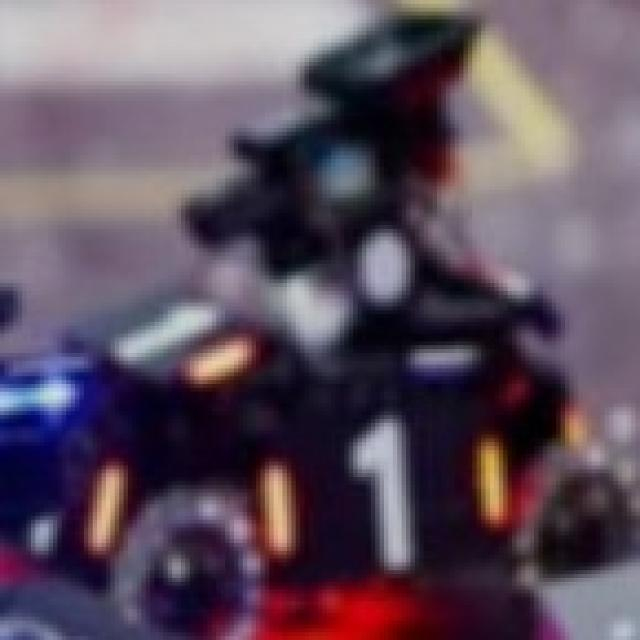R1: (260, 411, 499, 566), (110, 287, 265, 392)
